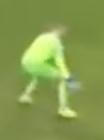goalkeeper: (14, 19, 92, 126)
